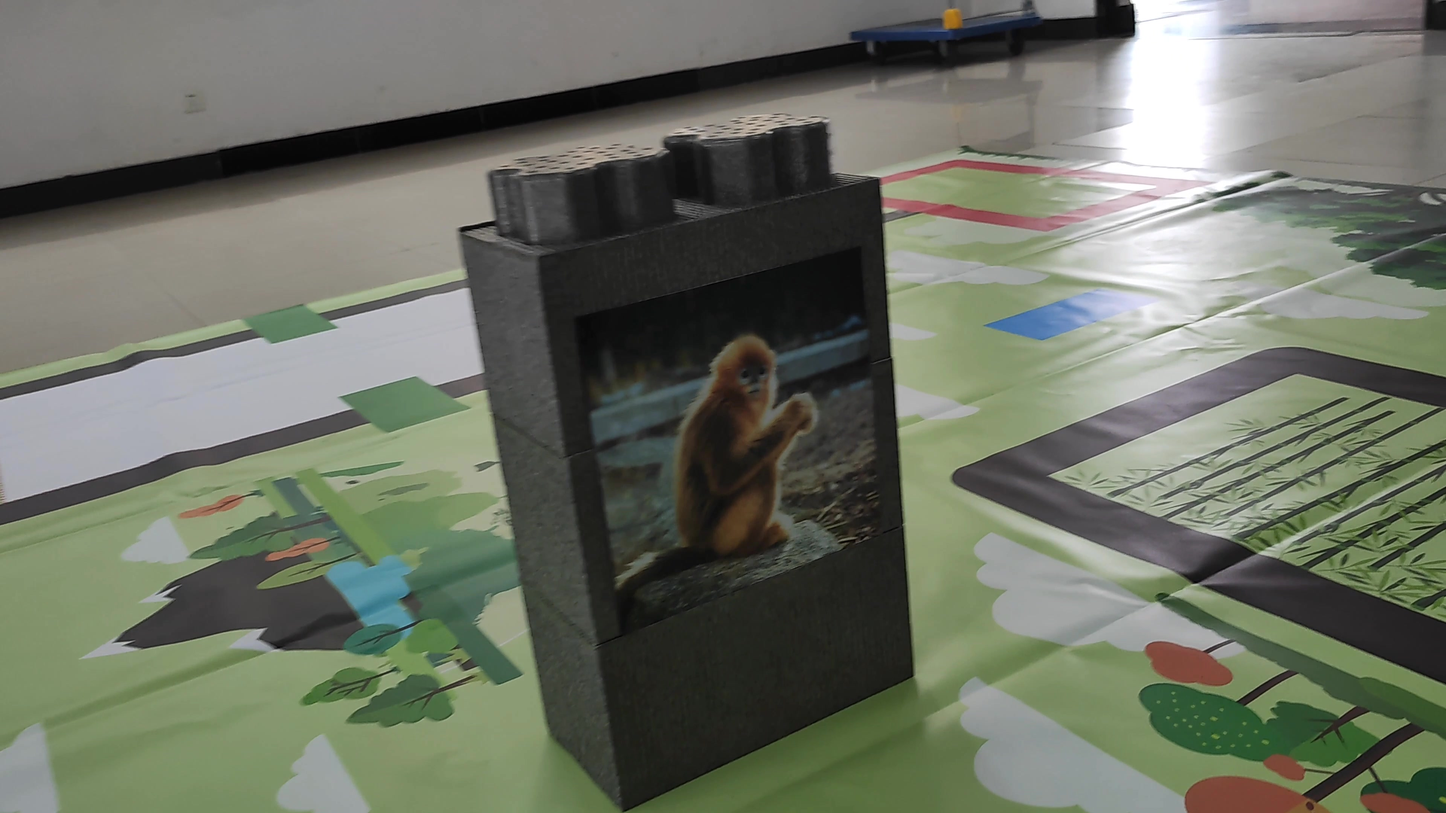monkey: (591, 317, 845, 602)
